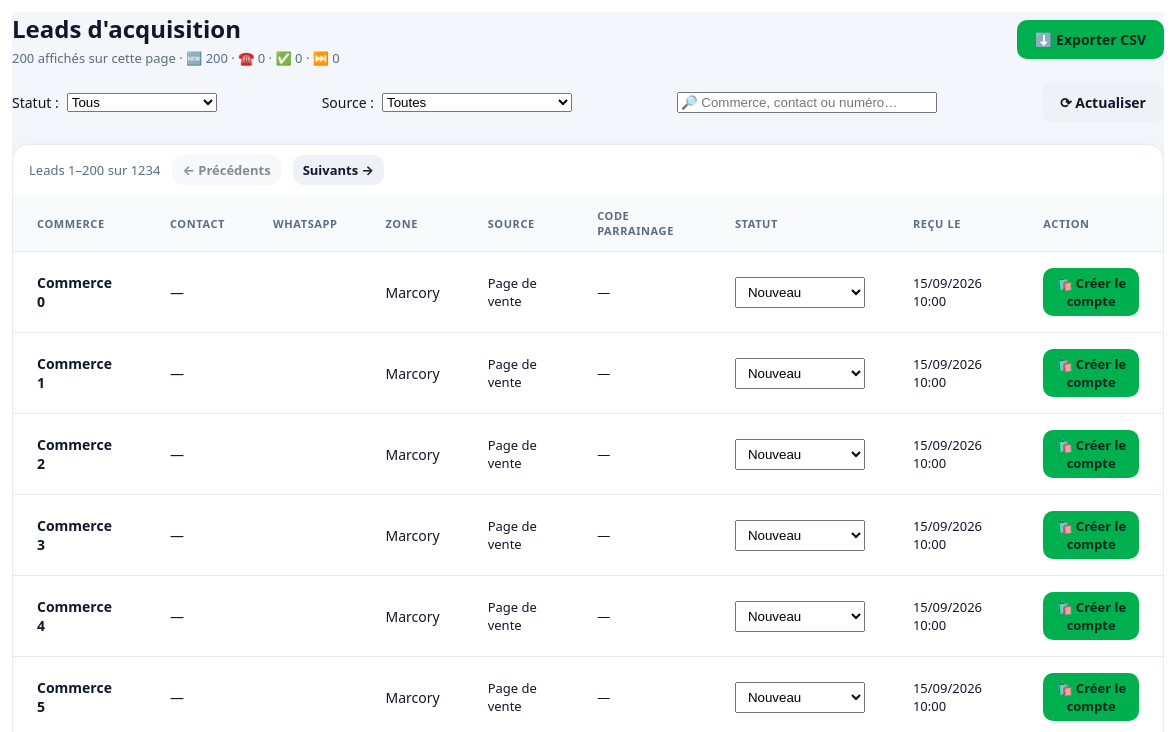
Test: page des leads (C-09) › demande la page suivante avec le bon décalage
Expected: the text "Leads 1–200 sur 1234" is shown, [29, 161, 160, 179]
Click the button "Suivants →": (338, 170) [293, 155, 384, 185]
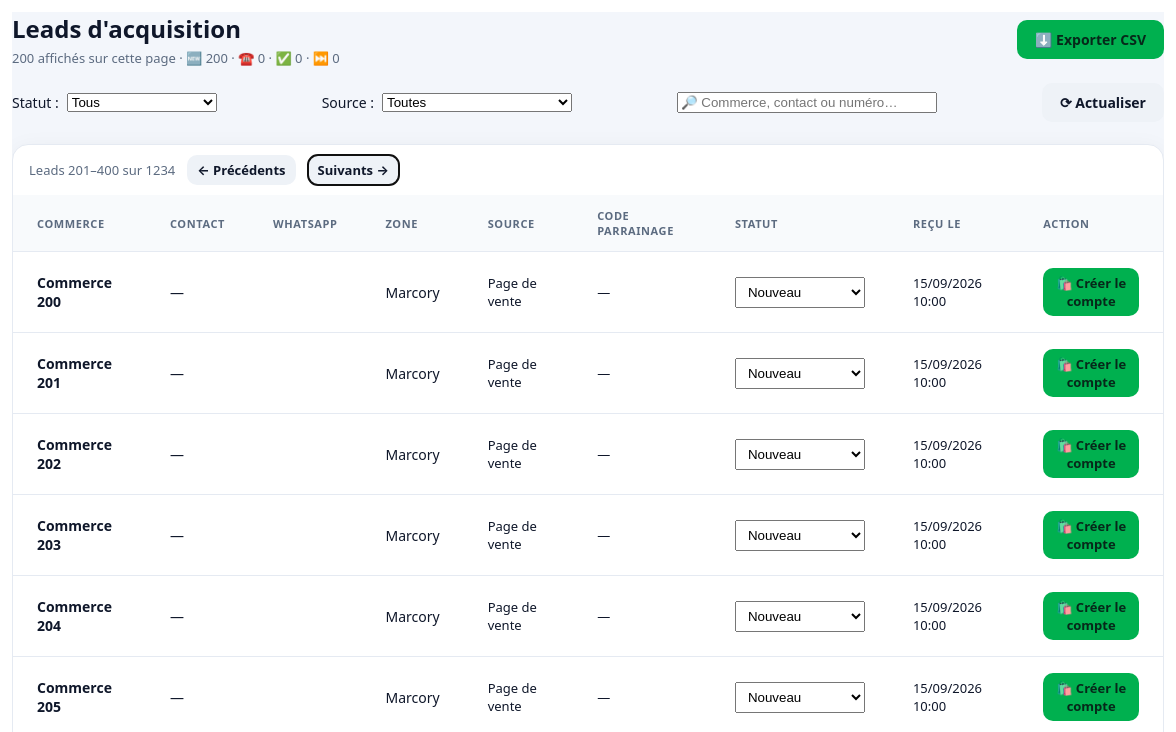
Expected: the text "Leads 201–400 sur 1234" is shown, [29, 161, 175, 179]
